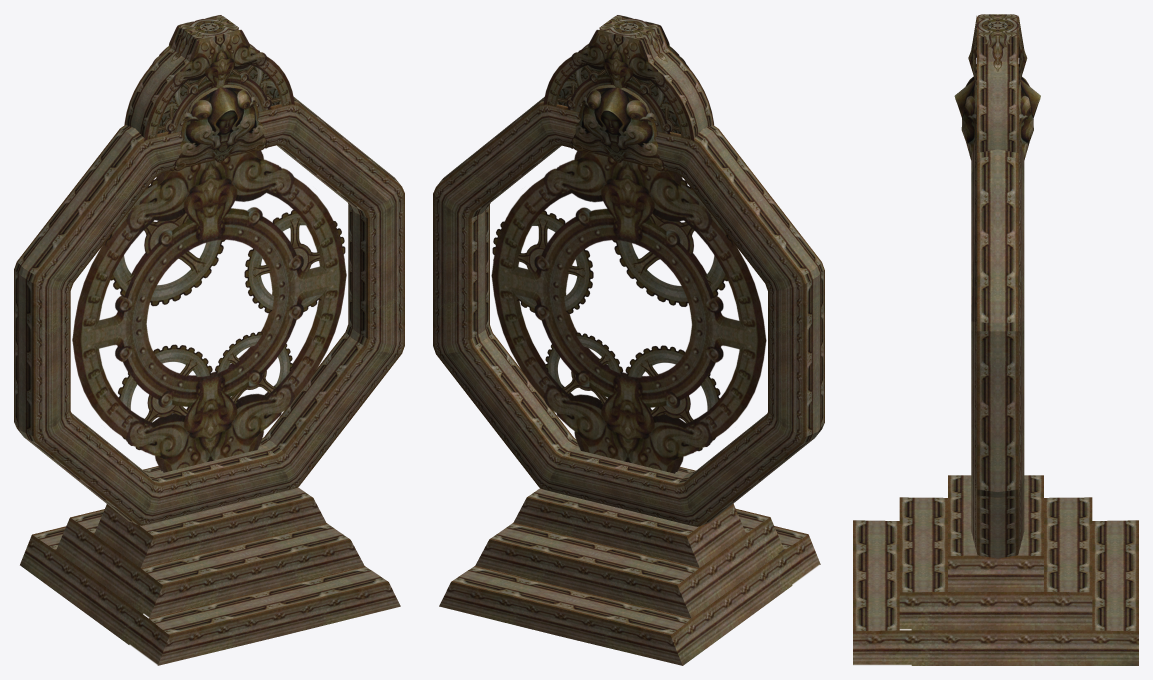
The model's file is portal5.glb.
3 renders of one model, left to right at view 1: azimuth 30°, elevation 25°; view 2: azimuth 150°, elevation 25°; view 3: azimuth 270°, elevation 25°, orthographic. The views are drawn at different scales.
Parts seen in each view (by area): view 1: portal5-col; view 2: portal5-col; view 3: portal5-col.
Part boxes in pixels (x1,y1,x2,y2): portal5-col: (14, 15, 404, 665); portal5-col: (433, 15, 824, 665); portal5-col: (853, 14, 1138, 665).
Size of the model in its own units: 4.24 by 6.02 by 2.69.
1 material, 1 textured.
